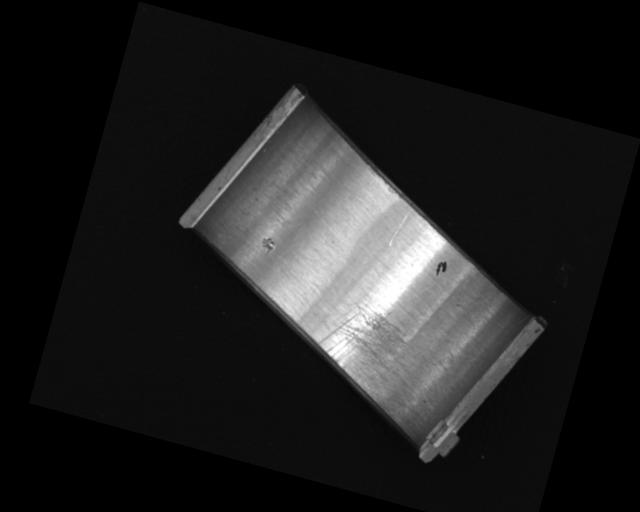blot: (434, 258, 449, 278)
bruise: (259, 235, 277, 256)
nick: (387, 206, 410, 249)
scratch: (305, 294, 426, 421)
